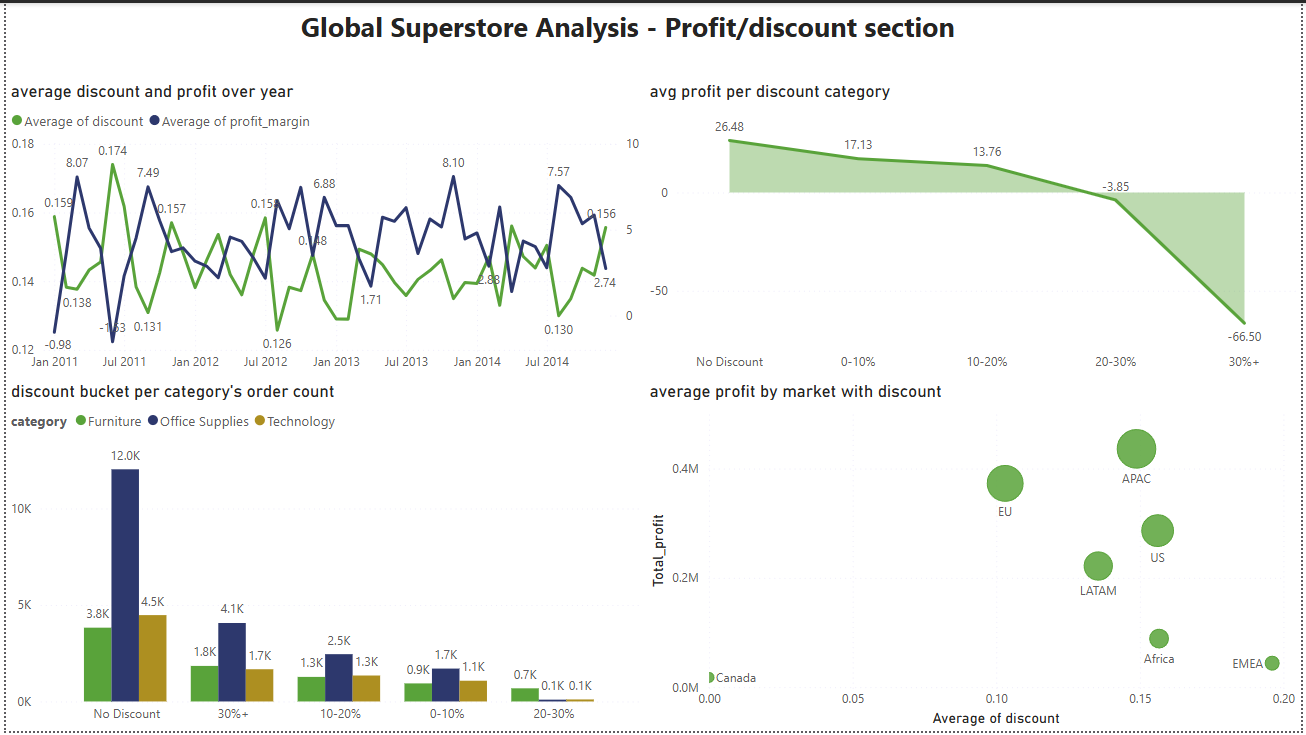

This screenshot's page, from the dashboard's own definition file:
{"tool":"powerbi","page":{"name":"profit-discount analysis","canvas":[1280,720],"ordinal":4},"visuals":[{"type":"textbox","box":[107.5,0,1014.3,45.7],"z":0},{"type":"lineChart","title":"average discount and profit over year","fields":{"Y":["Avg(public superstore.discount)"],"Y2":["Avg(public superstore.profit_margin)"],"Category":["public superstore.order_date.Variation.Date Hierarchy.Year","public superstore.order_date.Variation.Date Hierarchy.Quarter","public superstore.order_date.Variation.Date Hierarchy.Month"]},"box":[0,76.2,631.2,296.2],"z":1000},{"type":"lineChart","title":"avg profit per discount category","fields":{"Category":["public superstore.Discount column"],"Y":["Avg(public superstore.profit_margin)"]},"box":[631.2,76.2,648.8,296.2],"z":2000},{"type":"clusteredColumnChart","title":"discount bucket per category''s order count","fields":{"Category":["public superstore.Discount column"],"Series":["public superstore.category"],"Y":["public superstore.Total_order"]},"box":[0,373.1,631.3,347.2],"z":3000},{"type":"scatterChart","title":"average profit by market with discount","fields":{"Category":["public superstore.market"],"X":["Avg(public superstore.discount)"],"Y":["public superstore.Total_profit"],"Size":["public superstore.Total_profit"]},"box":[631.3,373.1,648.6,347.2],"z":4000}]}

Visuals, with their boxes in screenshot pixels (x1, y1, x2, y2), scaled from the page's 1280x720 canvas onto the 1306x735 screenshot:
textbox: {"left": 110, "top": 0, "right": 1145, "bottom": 47}
"average discount and profit over year" lineChart: {"left": 0, "top": 78, "right": 644, "bottom": 380}
"avg profit per discount category" lineChart: {"left": 644, "top": 78, "right": 1305, "bottom": 380}
"discount bucket per category''s order count" clusteredColumnChart: {"left": 0, "top": 381, "right": 644, "bottom": 734}
"average profit by market with discount" scatterChart: {"left": 644, "top": 381, "right": 1305, "bottom": 734}
